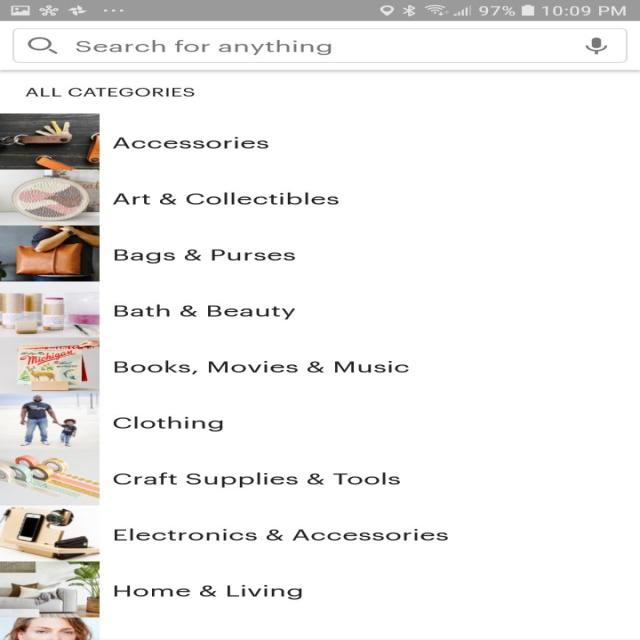EditText: (11, 28, 626, 63)
Icon: (28, 37, 58, 54), (584, 37, 607, 55)
Image: (0, 112, 100, 170), (0, 561, 100, 617), (0, 505, 100, 561), (0, 450, 100, 506), (0, 282, 100, 338), (0, 226, 100, 282), (0, 170, 100, 226), (0, 394, 100, 449), (0, 338, 100, 393), (0, 617, 100, 639)
Text: (113, 471, 400, 488), (76, 39, 332, 56), (114, 528, 448, 541), (114, 360, 409, 374), (114, 303, 296, 320), (112, 192, 339, 205), (114, 248, 296, 264), (114, 584, 302, 599), (112, 136, 268, 149), (113, 415, 223, 432), (25, 87, 195, 97)
